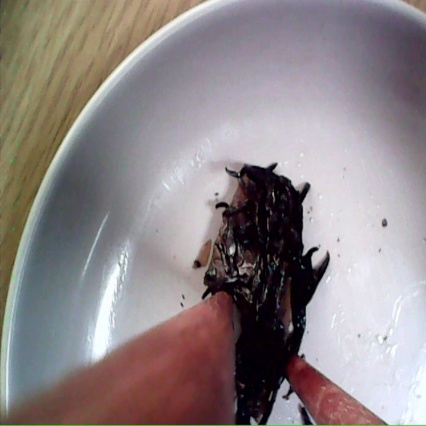black_hijiki: (179, 132, 328, 426)
